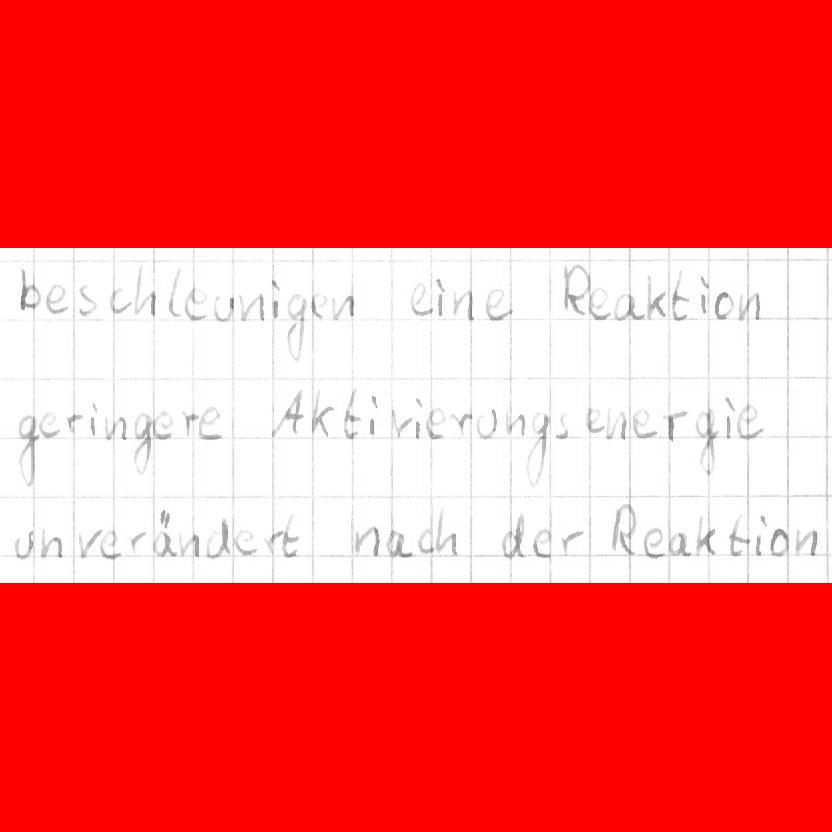Char: (524, 409, 552, 489), (690, 403, 719, 478), (269, 386, 303, 439), (16, 412, 39, 488), (560, 260, 589, 319), (609, 500, 638, 558), (283, 292, 306, 362), (133, 262, 160, 320), (500, 510, 530, 561), (131, 410, 153, 476), (16, 265, 45, 312), (435, 506, 461, 557), (311, 388, 336, 439), (341, 385, 363, 442), (152, 507, 177, 557), (727, 512, 753, 559), (204, 516, 232, 559), (670, 266, 691, 322), (645, 272, 668, 322), (693, 513, 718, 558), (407, 281, 436, 319), (736, 401, 765, 439), (195, 403, 223, 442), (483, 287, 512, 323), (613, 291, 644, 322), (382, 529, 413, 560), (632, 407, 660, 441), (43, 280, 70, 315), (281, 513, 302, 558), (792, 526, 820, 559), (353, 524, 380, 558), (183, 285, 207, 322), (451, 289, 477, 323), (586, 285, 609, 323), (238, 292, 266, 323), (327, 292, 355, 323), (556, 525, 583, 557), (662, 407, 686, 442), (530, 525, 554, 560), (736, 290, 762, 322), (76, 527, 102, 559), (76, 281, 99, 317), (606, 405, 629, 441), (167, 266, 182, 321), (388, 405, 412, 439), (643, 526, 666, 561), (40, 526, 65, 558), (666, 531, 694, 559), (477, 407, 500, 441), (178, 406, 200, 441), (423, 405, 445, 440), (722, 393, 738, 441), (751, 513, 768, 558), (108, 283, 131, 316), (213, 291, 236, 324), (103, 413, 130, 441), (151, 408, 173, 442), (502, 407, 526, 438), (267, 277, 283, 323), (98, 528, 121, 560), (768, 526, 790, 559), (37, 409, 61, 439), (176, 529, 200, 559), (13, 528, 35, 560), (232, 529, 258, 556), (582, 405, 604, 436), (714, 289, 735, 320), (449, 410, 473, 437), (434, 276, 448, 319), (126, 529, 148, 556), (263, 527, 282, 557), (415, 527, 435, 555), (369, 391, 381, 436), (309, 290, 326, 321), (553, 410, 570, 441), (88, 400, 101, 440), (698, 272, 709, 315), (64, 412, 83, 434), (414, 394, 422, 443)
